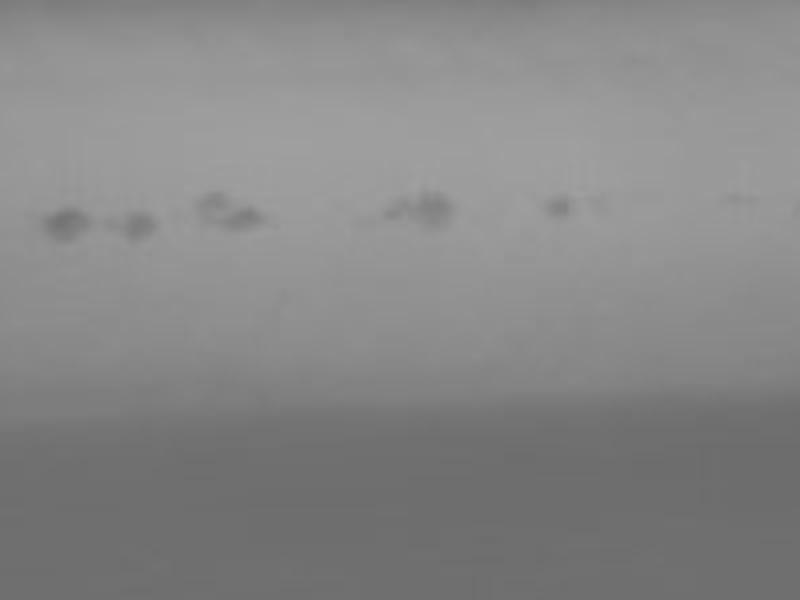defect: (409, 187, 454, 230), (42, 206, 90, 240), (190, 190, 227, 225), (123, 207, 160, 241), (229, 207, 262, 231), (380, 194, 407, 221), (542, 194, 568, 215), (101, 216, 120, 234)
